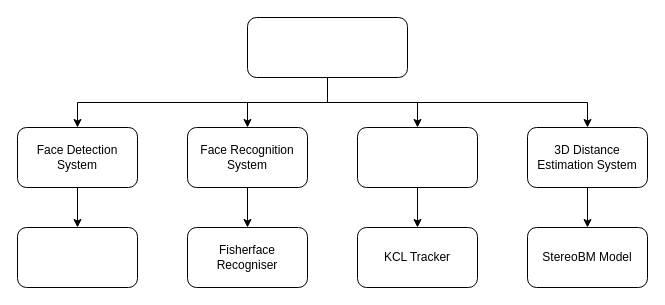
The diagram is 665 pixels wide and 305 high, and some of its shapes have lost their labels. The box of each missing label's shape, as (x1, y1, x2, y2) in pixels:
Face Tracking System: (356, 126, 478, 188)
Facial Tracker: (246, 16, 408, 78)
Haar Cascade Detector: (16, 226, 138, 288)
